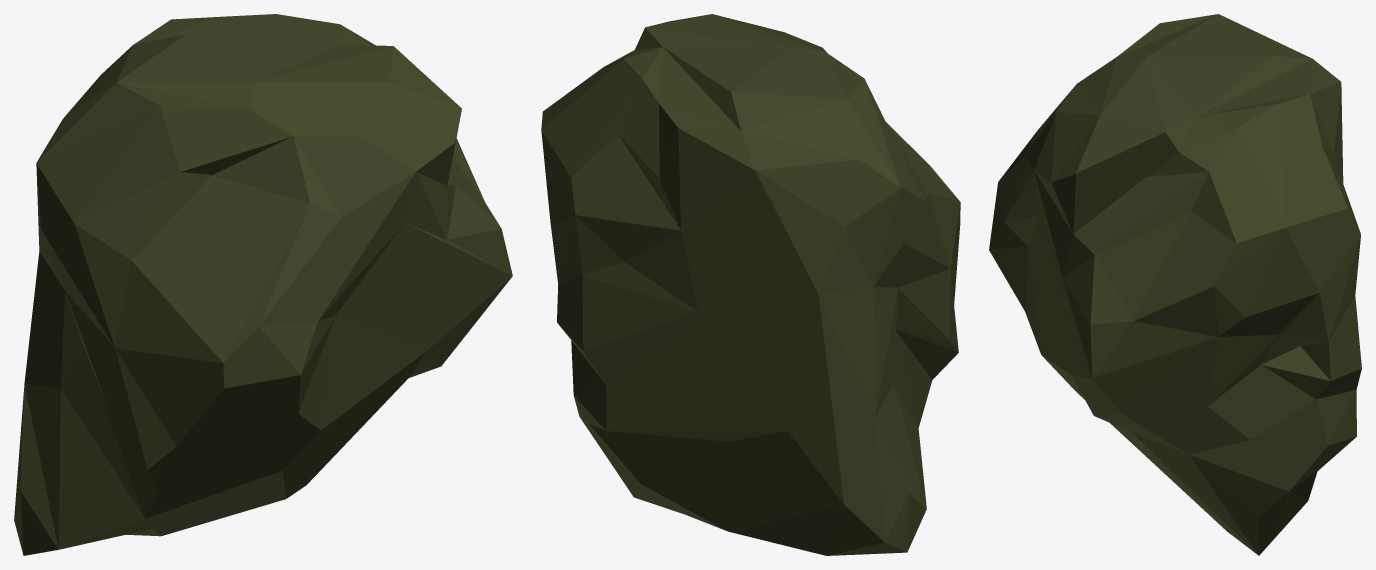
Rendered from SM_small_rock_42.fbx.
3 views of the same model, side by side, from view 1: azimuth 30°, elevation 25°; view 2: azimuth 150°, elevation 25°; view 3: azimuth 270°, elevation 25° (orthographic). The views are drawn at different scales.
Visible parts, largest first — view 1: small_rock_42; view 2: small_rock_42; view 3: small_rock_42.
Part boxes in pixels (x1=…): small_rock_42: x1=14, y1=14, x2=512, y2=555; small_rock_42: x1=541, y1=14, x2=960, y2=555; small_rock_42: x1=989, y1=14, x2=1361, y2=555.
Bounding box in the file's own units: 13.9 × 15.53 × 11.44.
